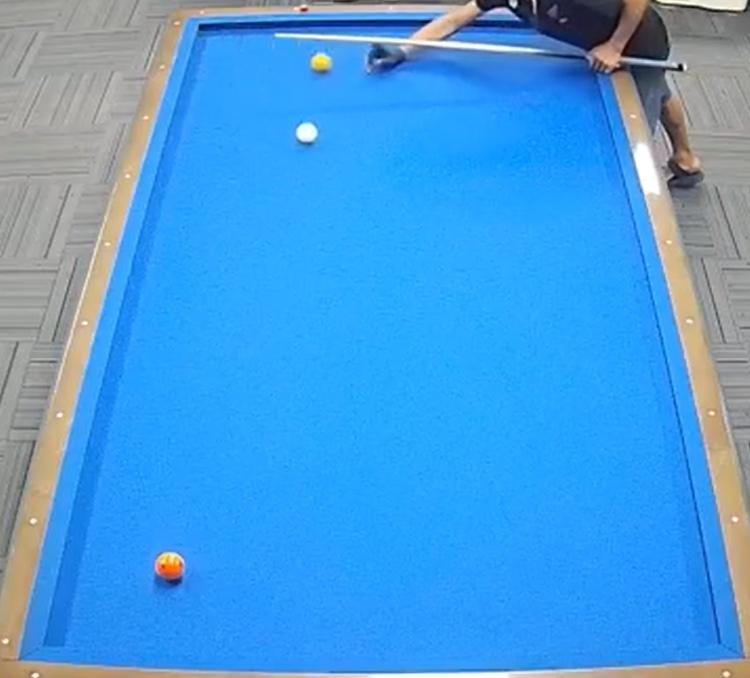orange ball: (150, 546, 191, 587)
white ball: (292, 117, 323, 150)
yellow ball: (307, 47, 337, 82)
